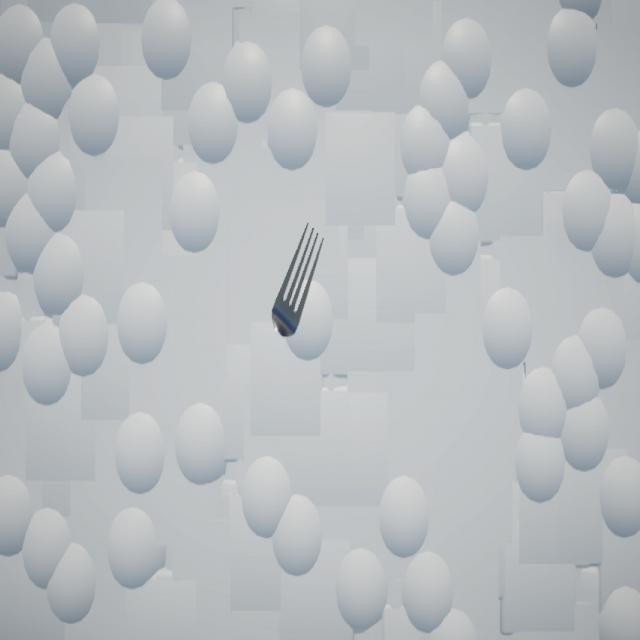top_folk: (273, 224, 325, 338)
